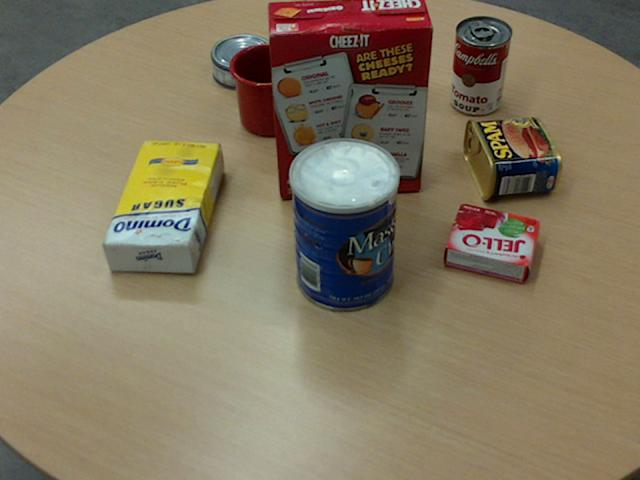cracker_box: (265, 0, 432, 197)
gelatin_box: (443, 202, 542, 281)
large_marker: (401, 44, 422, 135)
master_chef_can: (288, 137, 398, 312)
mug: (228, 42, 315, 135)
mustard_bottle: (282, 8, 417, 93)
potted_meat_can: (462, 116, 560, 199)
sugar_box: (101, 139, 221, 273)
tomato_soup_can: (450, 15, 512, 114)
tuna_fish_can: (209, 32, 275, 88)
